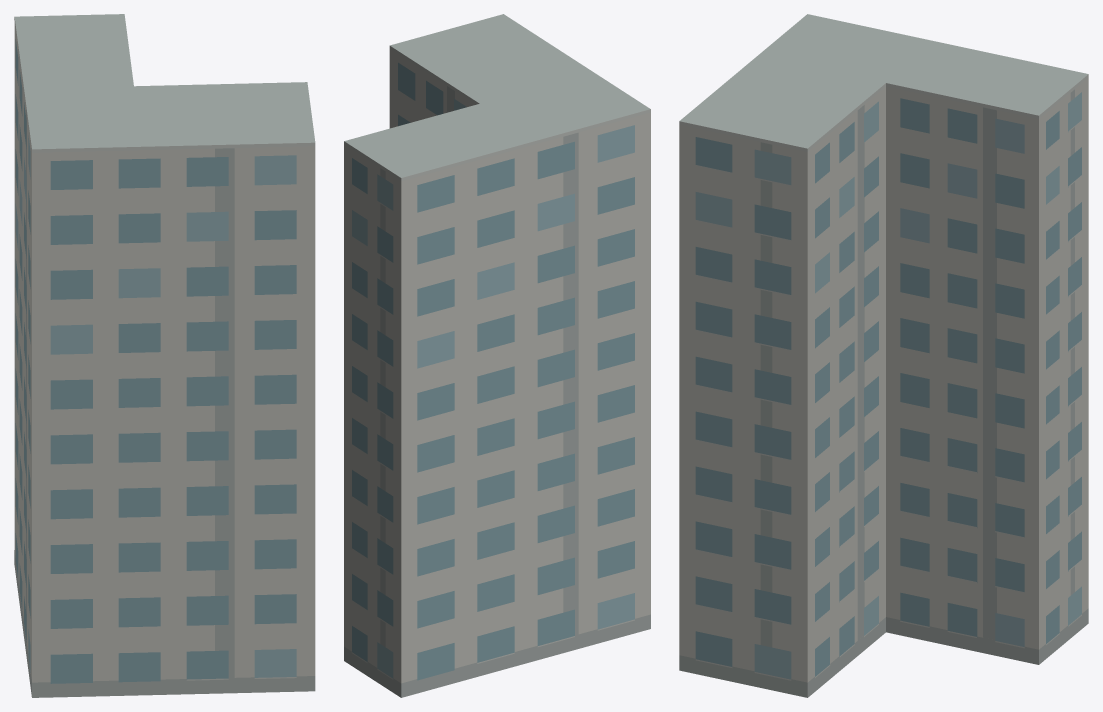
File: residential-b8587303-5f98-4ed3-9e83-98841ff1478f.glb
The picture shows the model from 3 angles, left to right: view 1: azimuth 30°, elevation 25°; view 2: azimuth 150°, elevation 25°; view 3: azimuth 270°, elevation 25°; orthographic projection. The views are drawn at different scales.
Parts seen in each view (by area): view 1: residential-b8587303-5f98-4ed3-9e83-98841ff1478f.tmp; view 2: residential-b8587303-5f98-4ed3-9e83-98841ff1478f.tmp; view 3: residential-b8587303-5f98-4ed3-9e83-98841ff1478f.tmp.
Boxes of the visible parts, bbox=[...] form: residential-b8587303-5f98-4ed3-9e83-98841ff1478f.tmp: bbox=[14, 14, 315, 697]; residential-b8587303-5f98-4ed3-9e83-98841ff1478f.tmp: bbox=[344, 14, 650, 697]; residential-b8587303-5f98-4ed3-9e83-98841ff1478f.tmp: bbox=[679, 14, 1088, 697].
Bounding box in the file's own units: 19.46 × 37 × 25.
